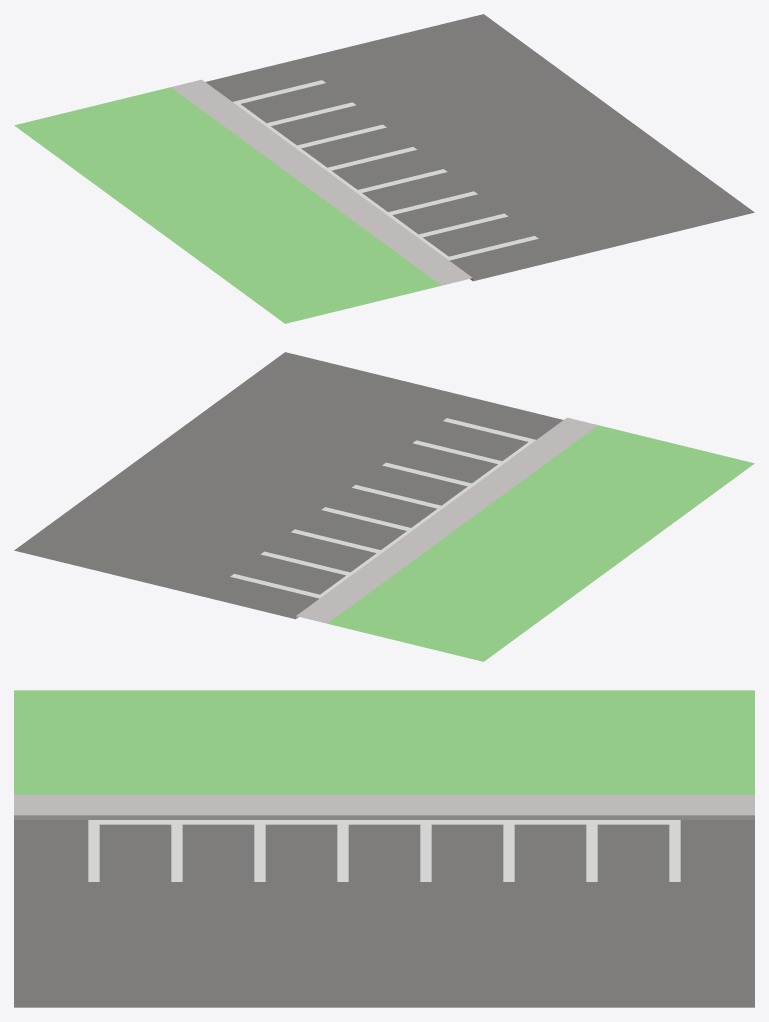
File: tile_parking_lot_side2.fbx
3 renders of one model, top to bottom at view 1: azimuth 30°, elevation 25°; view 2: azimuth 150°, elevation 25°; view 3: azimuth 270°, elevation 25°, orthographic. The views are drawn at different scales.
Visible parts, largest first — view 1: tile_road_intersection_t_nb.002; view 2: tile_road_intersection_t_nb.002; view 3: tile_road_intersection_t_nb.002.
Part boxes in pixels (bbox=[...]): tile_road_intersection_t_nb.002: bbox=[14, 14, 754, 323]; tile_road_intersection_t_nb.002: bbox=[14, 352, 754, 661]; tile_road_intersection_t_nb.002: bbox=[14, 690, 754, 1007].
Bounding box in the file's own units: 3000 × 20 × 3000.
